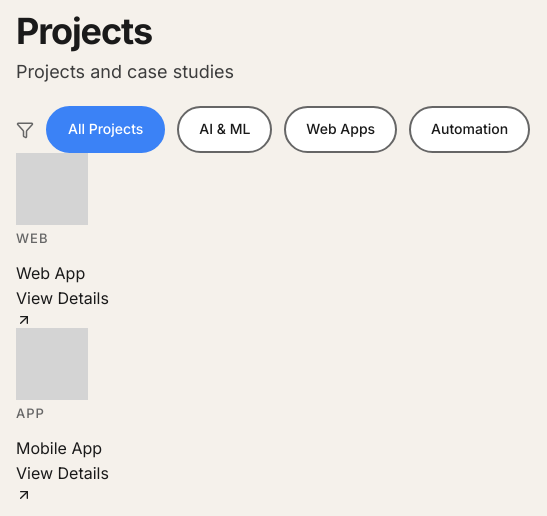
Test: ProjectsPage › filters projects
Check: the heading "Web App" is shown, box [16,263,85,283]
// Click filter
Click the button "Web Apps" at point(341, 130), box [284,106,397,153]
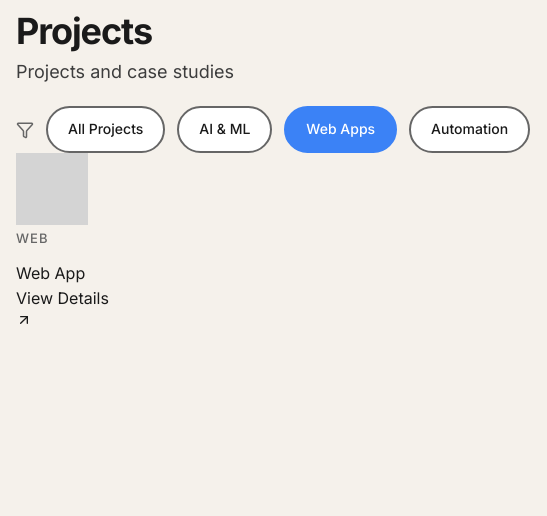
Check: the heading "Web App" is shown, box [16,263,85,283]
Check: the link "Mobile App" is gone
